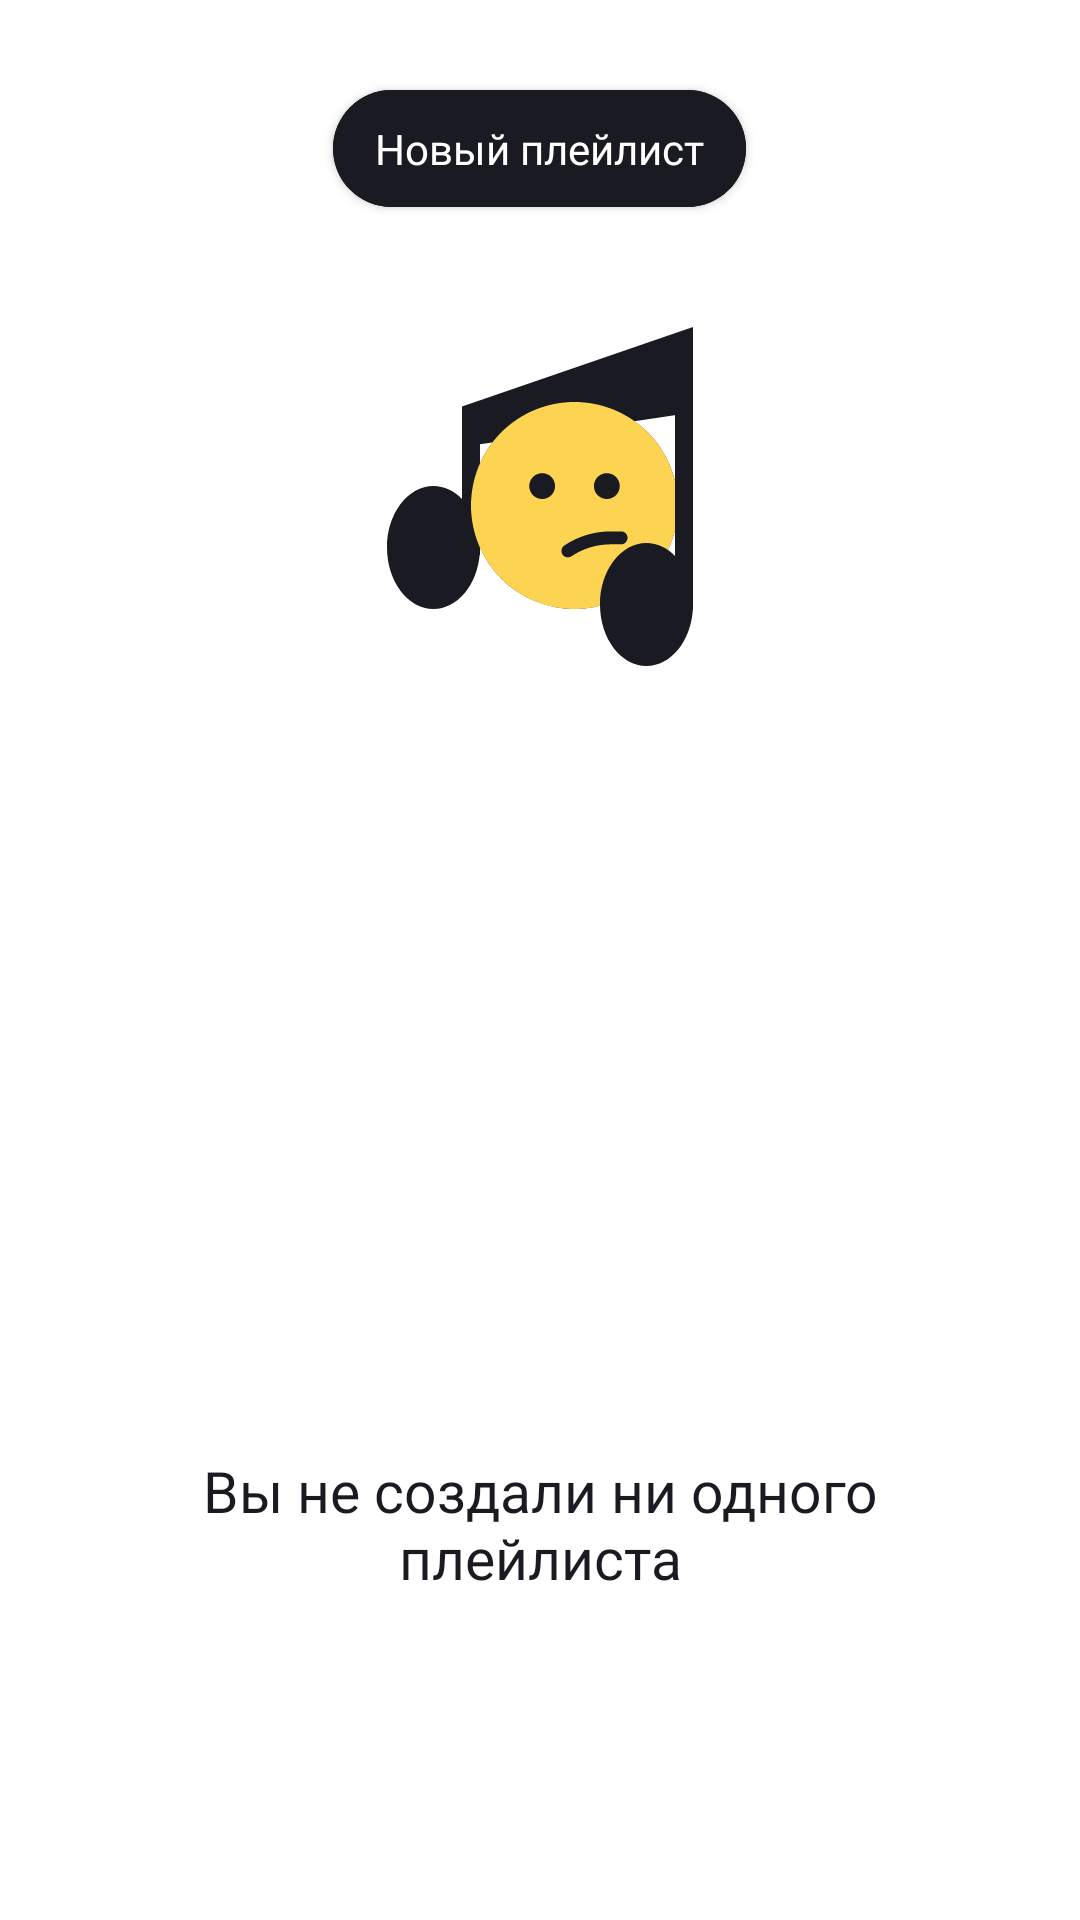

Screen size 1080 x 1920. Icon name, then its center in pixels as [x,y]:
empty search note: [540,496]
